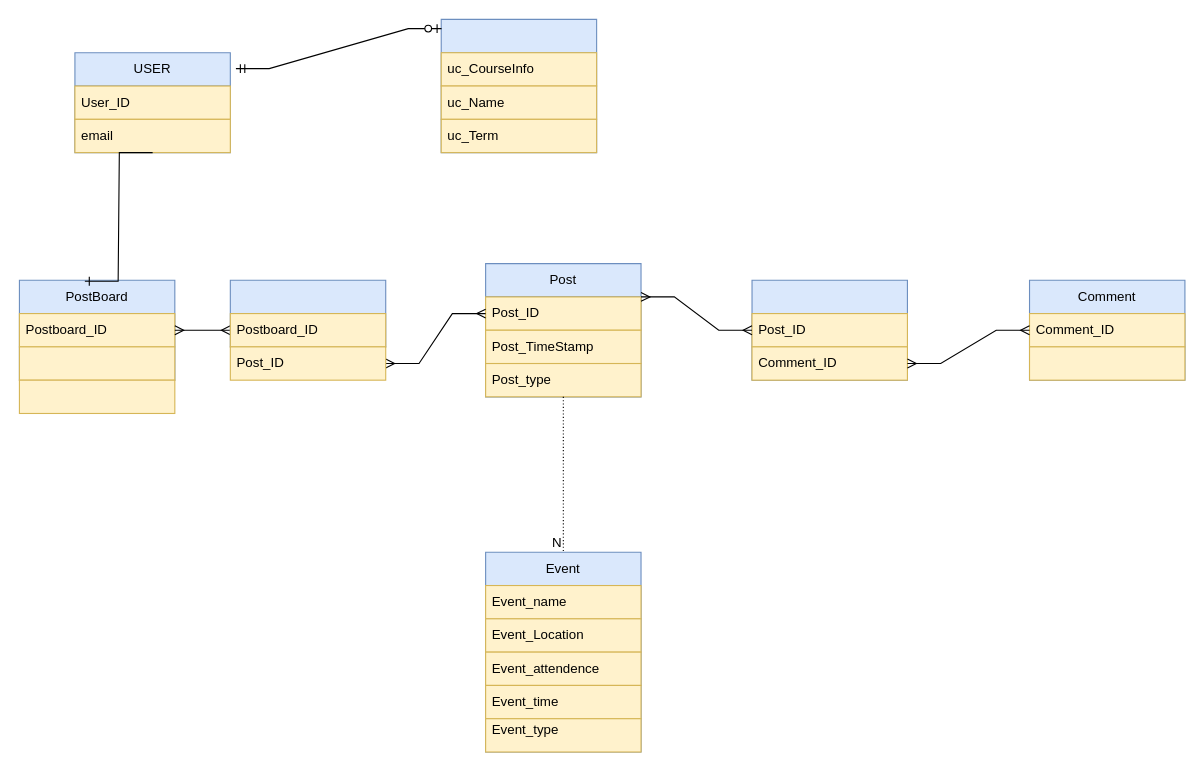
Some shapes in this 1204 by 771 pixel diagram are drawn without their labels. Here are the shapes that lost their labels. From the top down, the box of each, then its label:
(440, 18, 597, 153): UCinfo
(229, 279, 386, 347): Unique Postboard Post
(751, 279, 907, 380): Engage Post
(18, 346, 175, 380): Postboard_TimeStamp
(1028, 346, 1185, 380): Comment_TimeStamp
(18, 379, 175, 413): Hidden_Post
